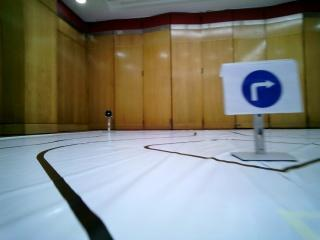right: (220, 65, 305, 114)
